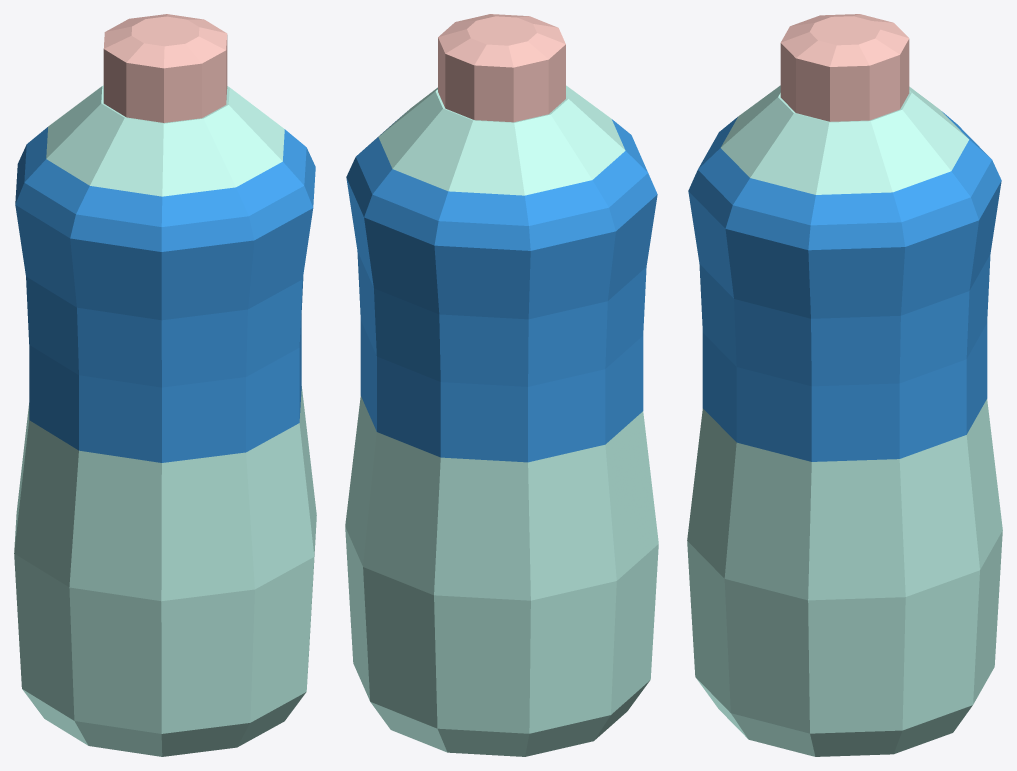
File: Potion.Sweaty.fbx
3 renders of one model, left to right at view 1: azimuth 30°, elevation 25°; view 2: azimuth 150°, elevation 25°; view 3: azimuth 270°, elevation 25°, orthographic.
Visible parts, largest first — view 1: Potion.Sweaty; view 2: Potion.Sweaty; view 3: Potion.Sweaty.
Boxes of the visible parts, x1=… form: Potion.Sweaty: x1=14, y1=14, x2=316, y2=756; Potion.Sweaty: x1=345, y1=14, x2=658, y2=756; Potion.Sweaty: x1=687, y1=14, x2=1002, y2=756.
Bounding box in the file's own units: 35.27 × 86.9 × 36.15.
